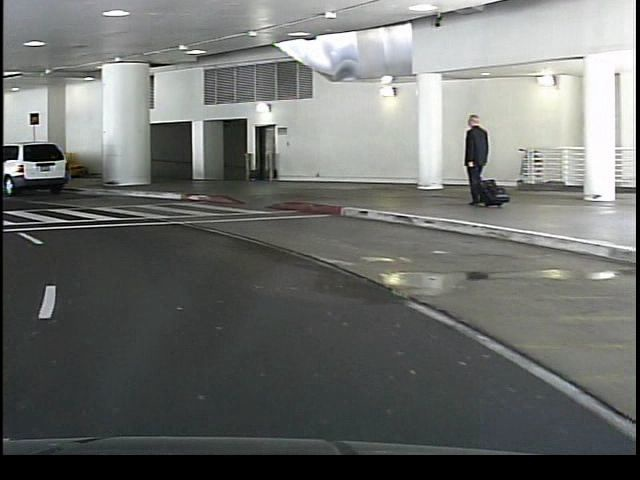person: (454, 110, 486, 208)
